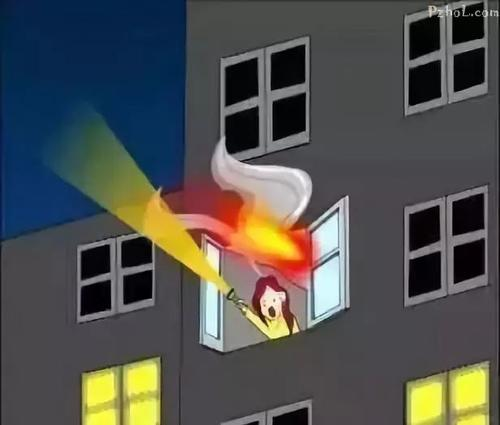fire: (204, 179, 307, 271)
